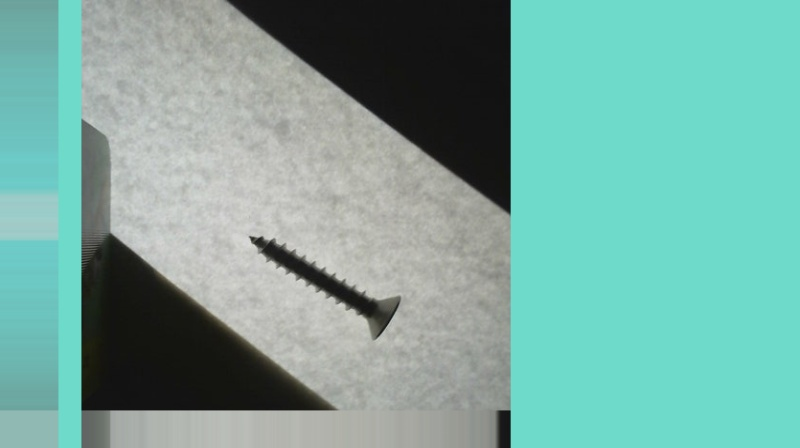S001: (243, 226, 405, 342)
